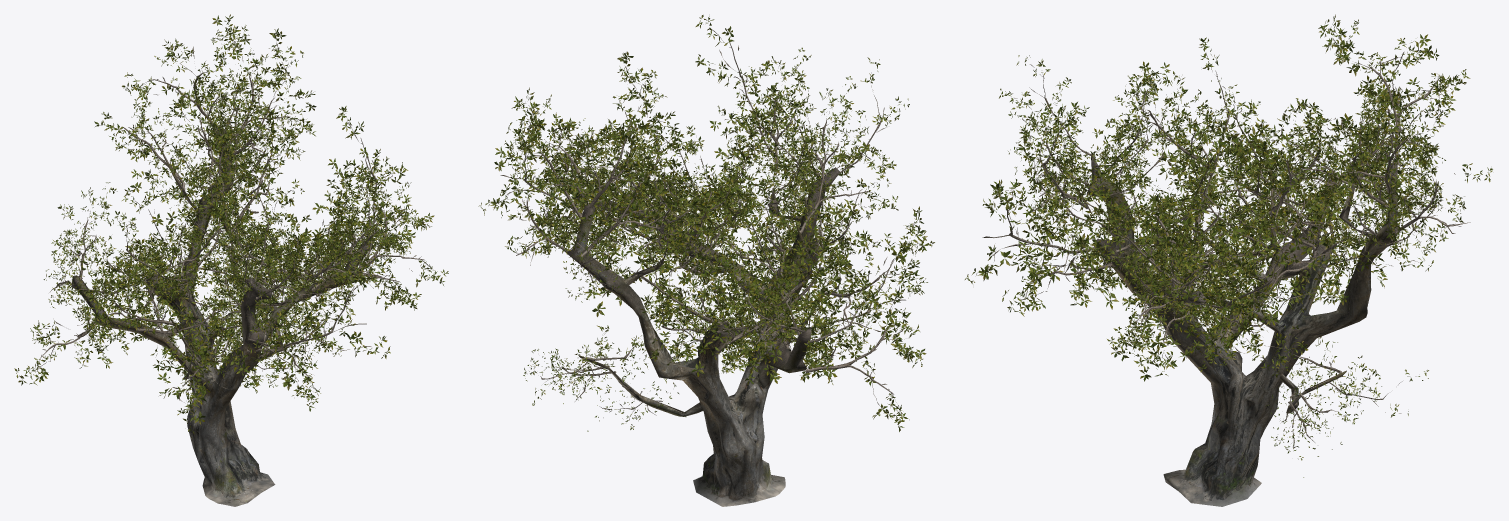
The model's file is island_tree_01_lod.glb.
3 renders of one model, left to right at view 1: azimuth 30°, elevation 25°; view 2: azimuth 150°, elevation 25°; view 3: azimuth 270°, elevation 25°, orthographic. The views are drawn at different scales.
Parts seen in each view (by area): view 1: island_tree_01_LOD0; view 2: island_tree_01_LOD0; view 3: island_tree_01_LOD0.
Part boxes in pixels (box(x1,y1,x2,y2)): island_tree_01_LOD0: box(14, 14, 448, 506); island_tree_01_LOD0: box(478, 15, 934, 506); island_tree_01_LOD0: box(965, 14, 1492, 506).
Bounding box in the file's own units: 4.74 × 5.02 × 4.82.
Materials: 3 (3 with a texture image).
